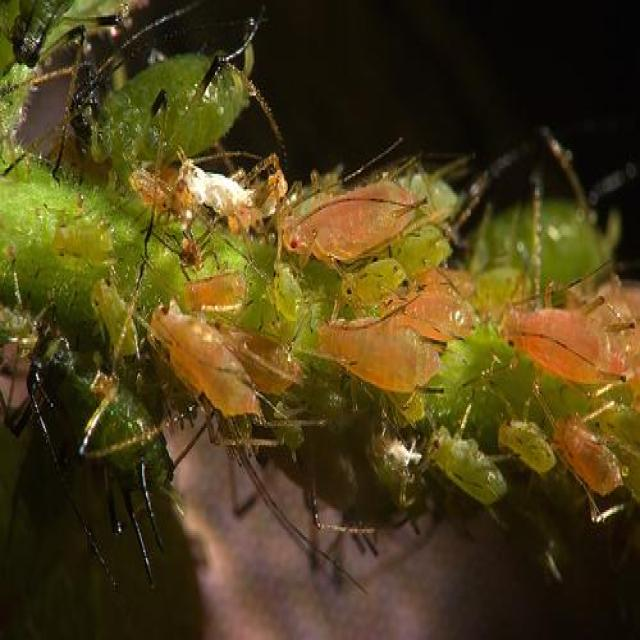Aphids: (60, 34, 273, 195), (140, 275, 266, 440), (256, 166, 431, 277), (303, 288, 452, 409), (485, 290, 621, 411)
